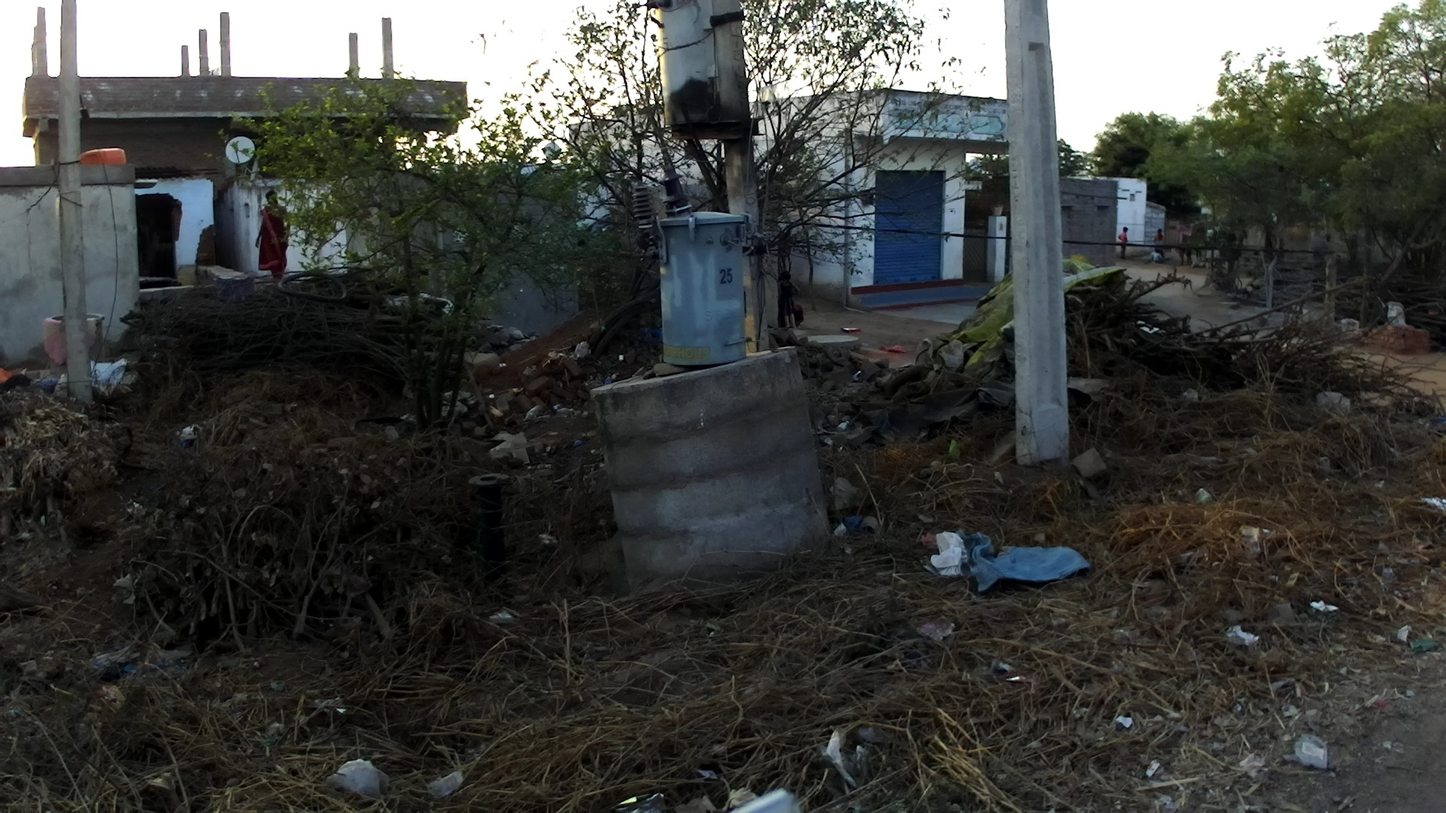person: (255, 190, 292, 284), (776, 272, 799, 330), (777, 288, 805, 331), (1118, 227, 1130, 260), (1155, 235, 1165, 259), (1185, 240, 1194, 266), (1153, 227, 1165, 245), (1152, 249, 1165, 265), (1179, 242, 1185, 266), (1149, 248, 1157, 262)
